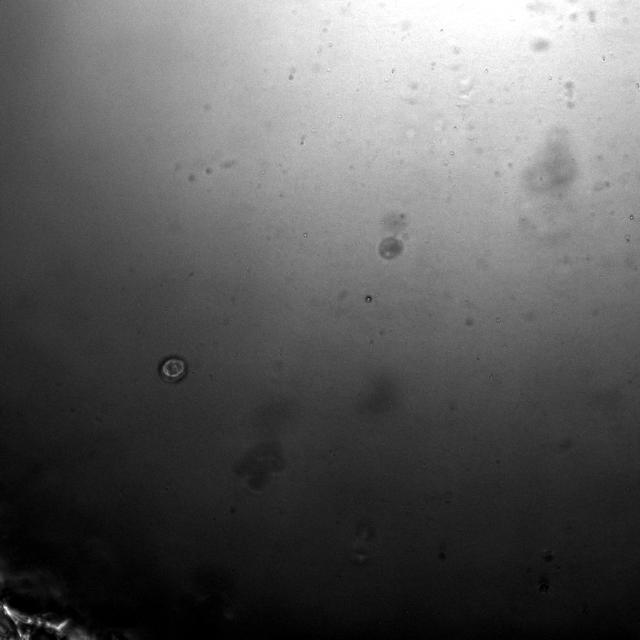organoid: (234, 441, 286, 493), (159, 355, 188, 383), (379, 236, 403, 259)
